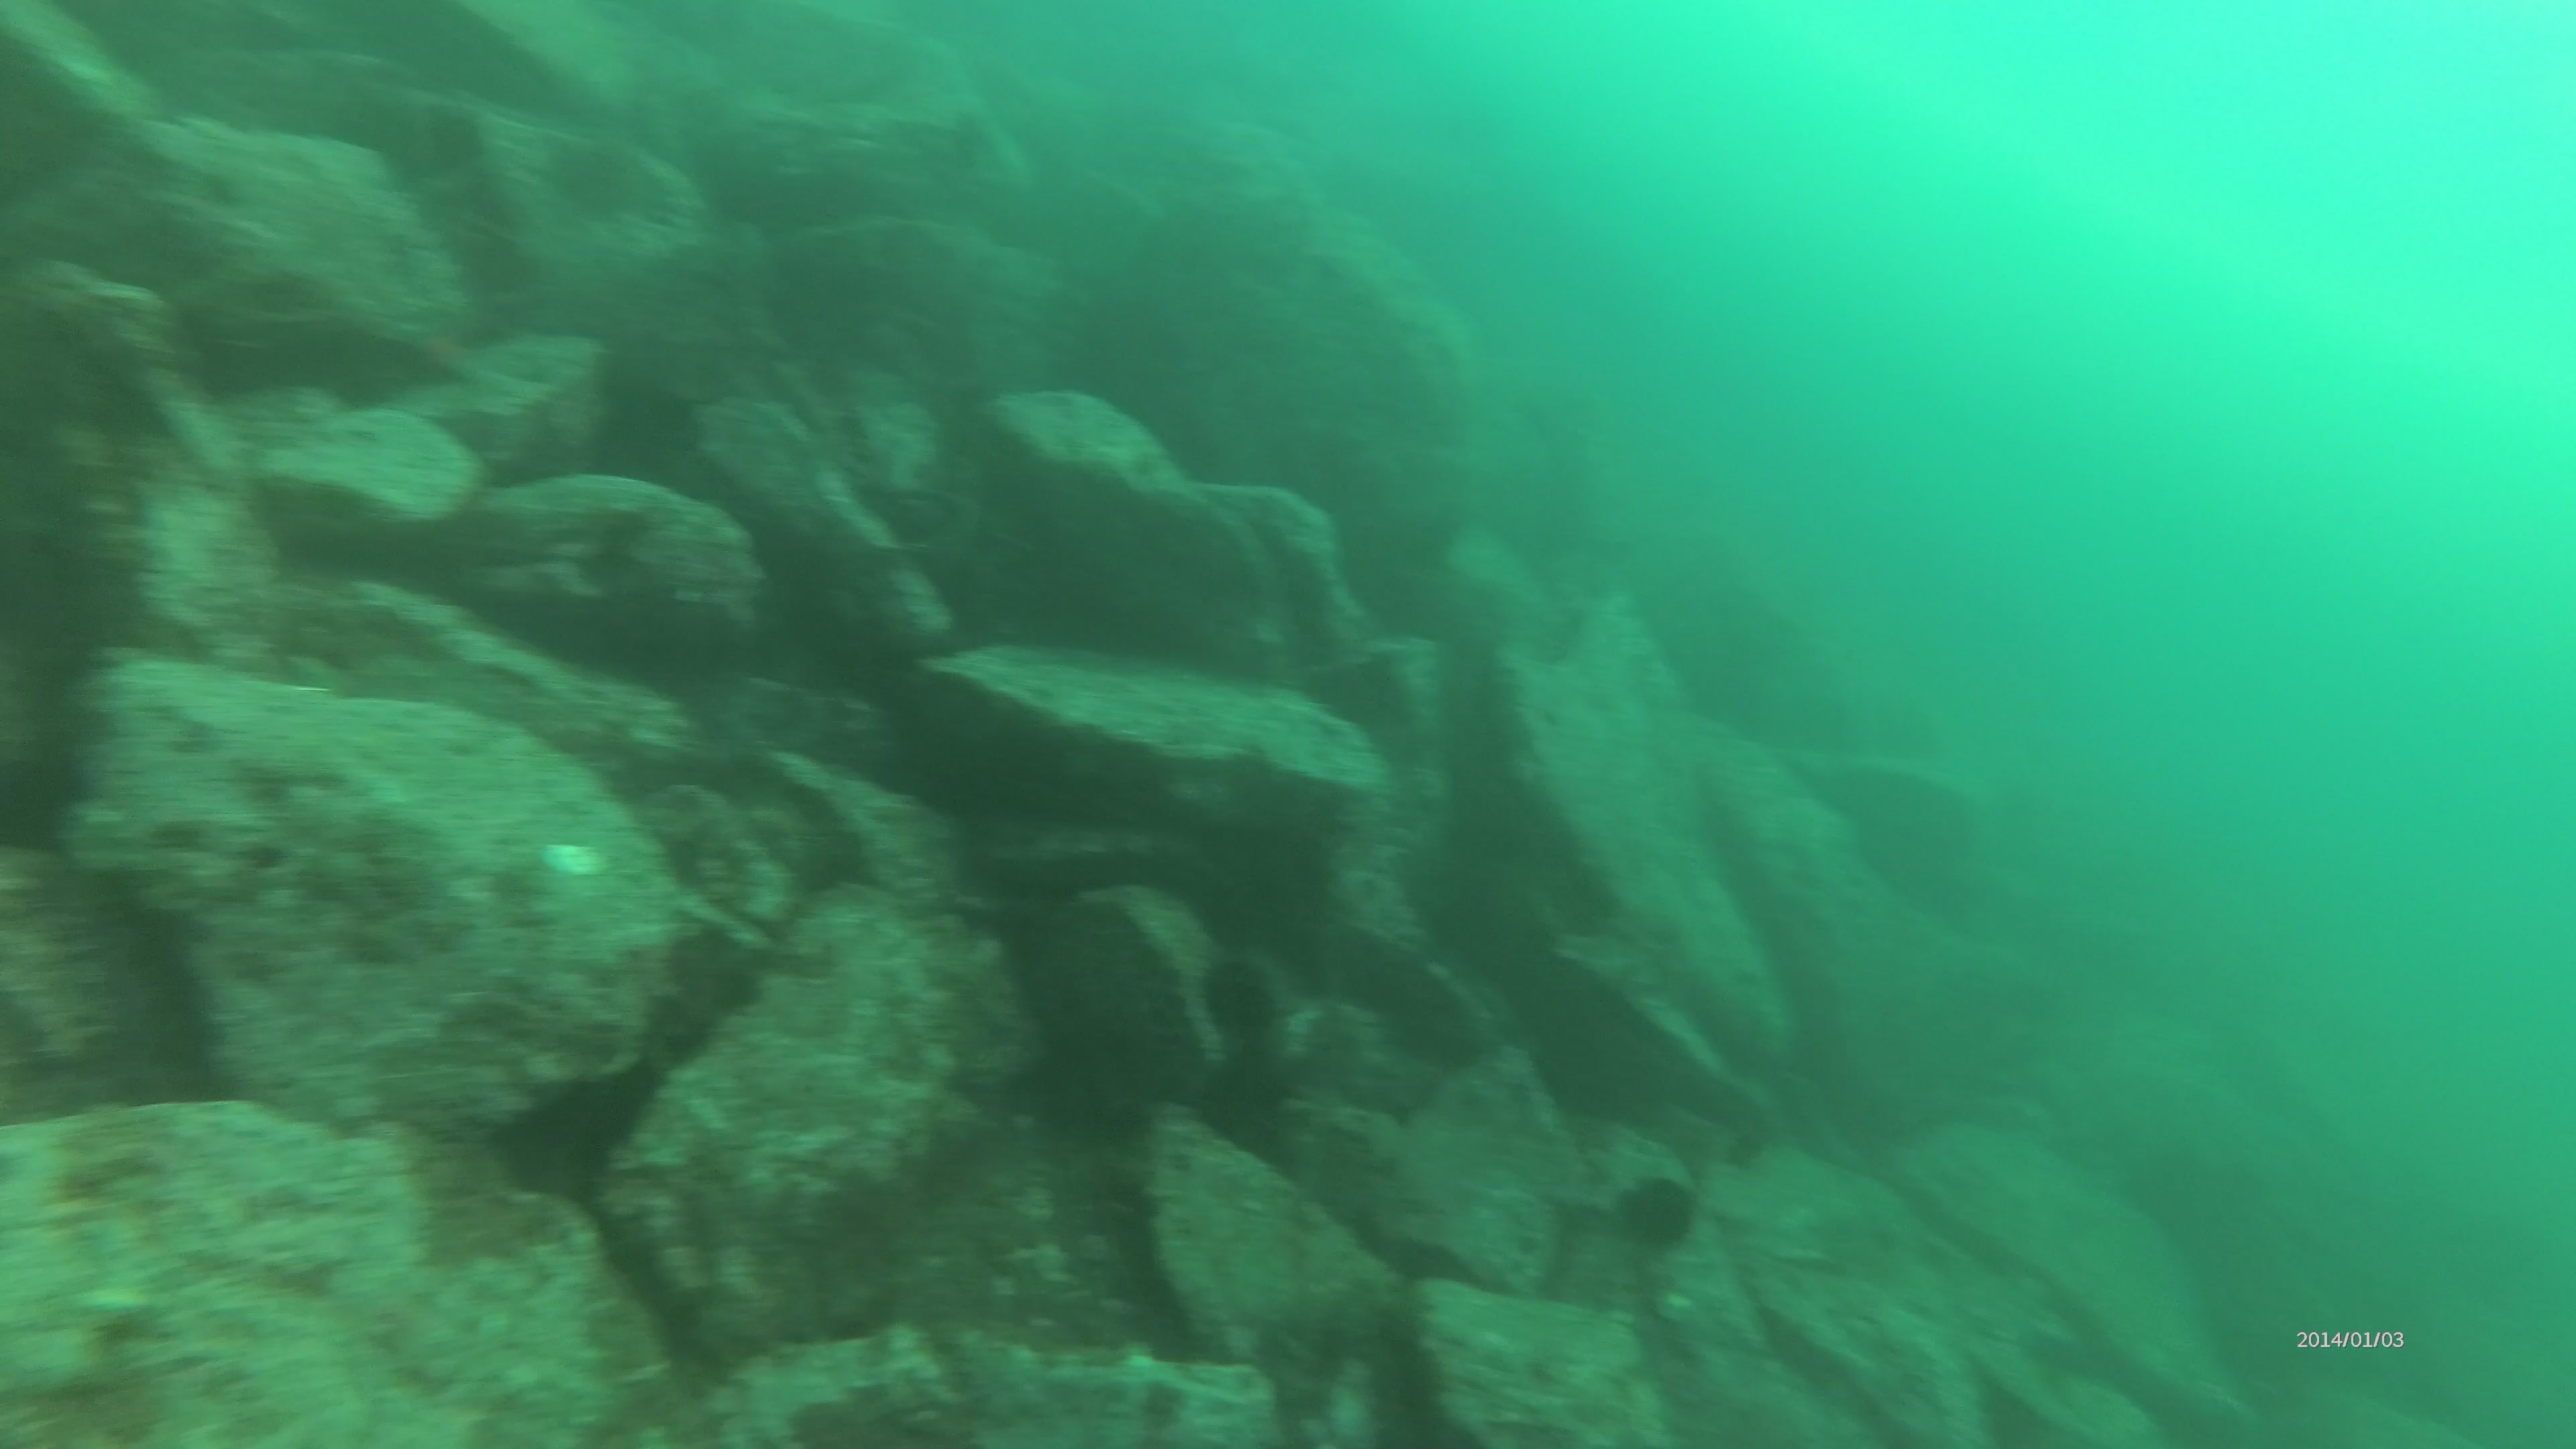echinus: (1621, 1155, 1721, 1253), (1191, 947, 1292, 1042)
